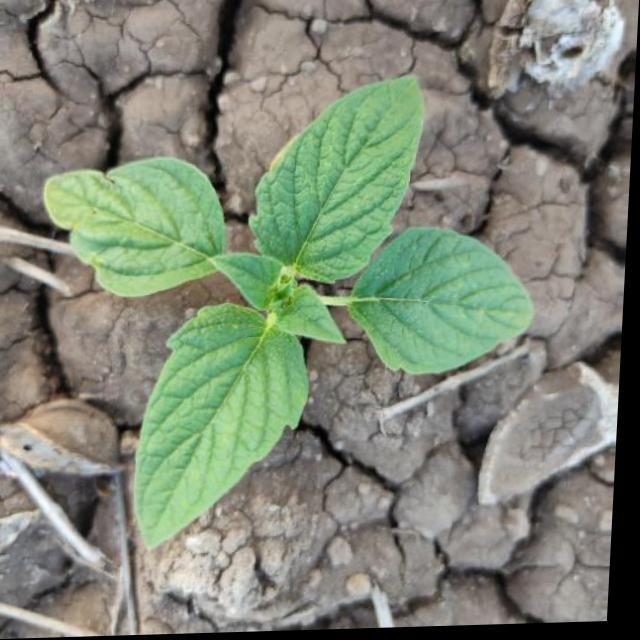crop: (39, 71, 545, 555)
